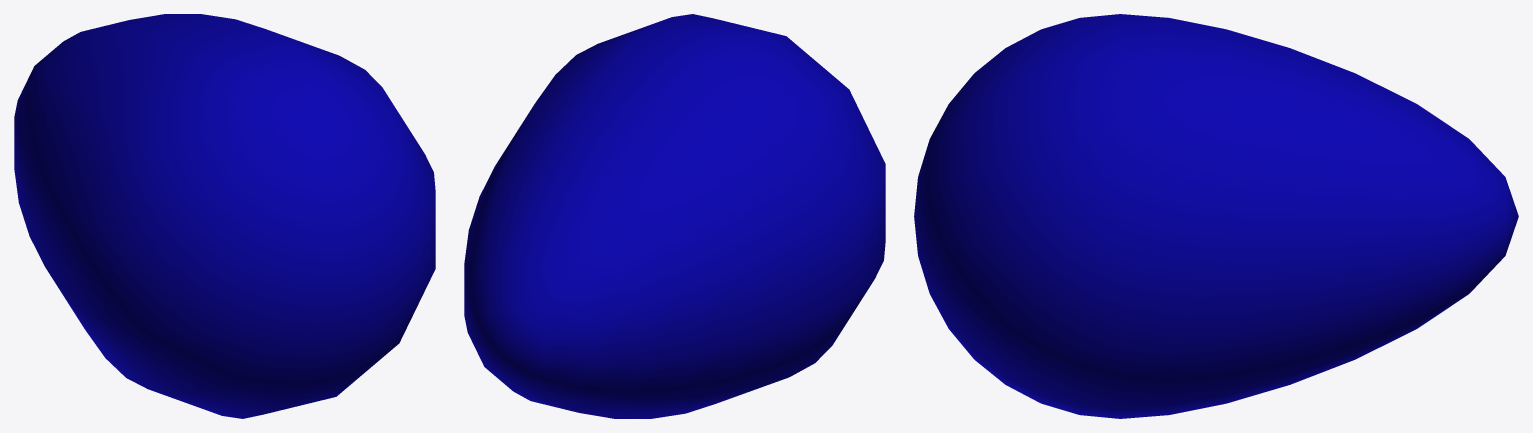
The model's file is FlowerClosedfbx.fbx.
3 views of the same model, side by side, from view 1: azimuth 30°, elevation 25°; view 2: azimuth 150°, elevation 25°; view 3: azimuth 270°, elevation 25° (orthographic). The views are drawn at different scales.
Parts seen in each view (by area): view 1: Sphere.002; view 2: Sphere.002; view 3: Sphere.002.
Part boxes in pixels (x1,y1,x2,y2): Sphere.002: (14, 14, 435, 418); Sphere.002: (464, 14, 885, 418); Sphere.002: (914, 14, 1518, 418).
Bounding box in the file's own units: 193 × 193 × 294.
1 material, 1 textured.
